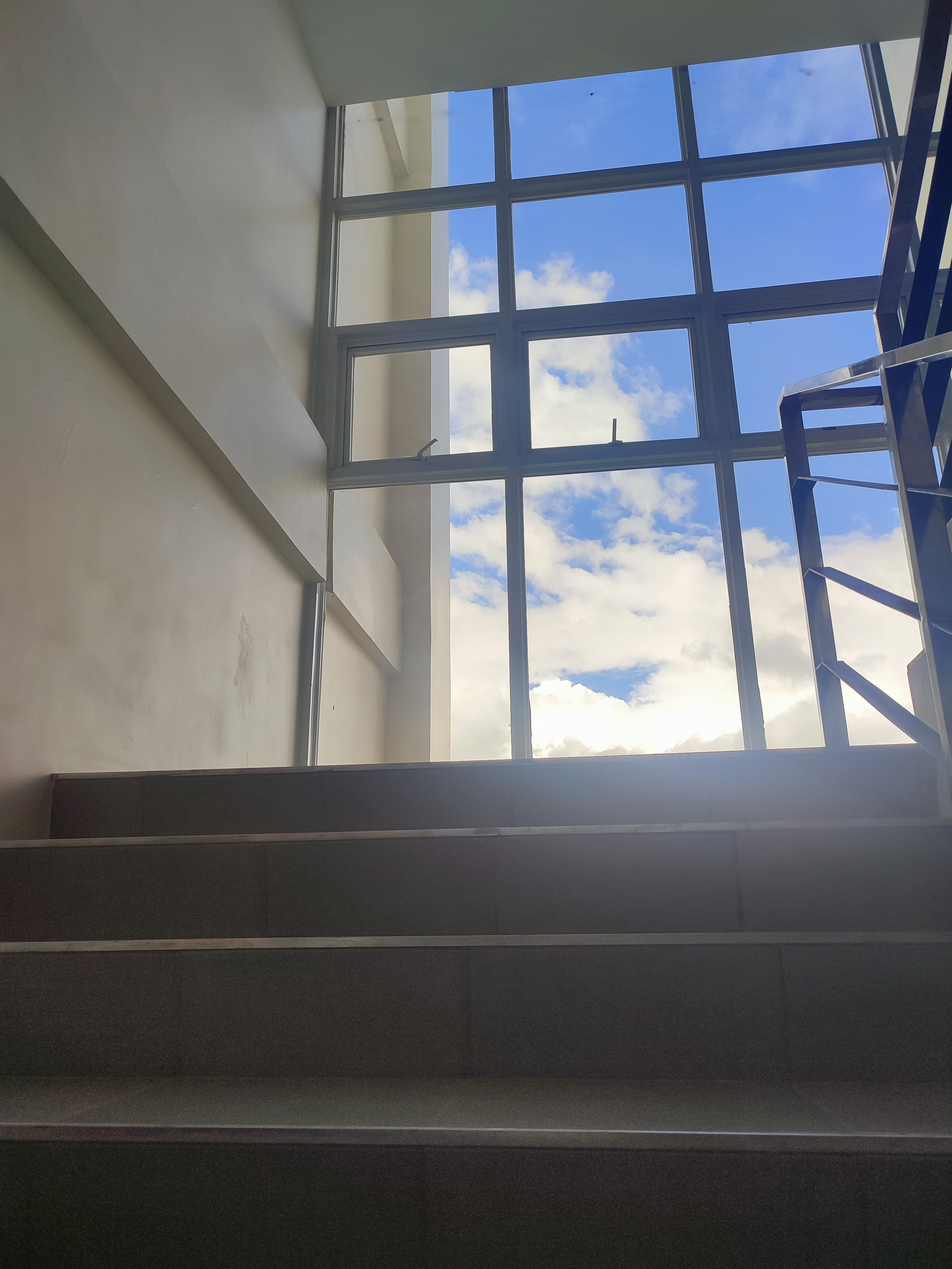Staircase: (0, 746, 952, 1269)
